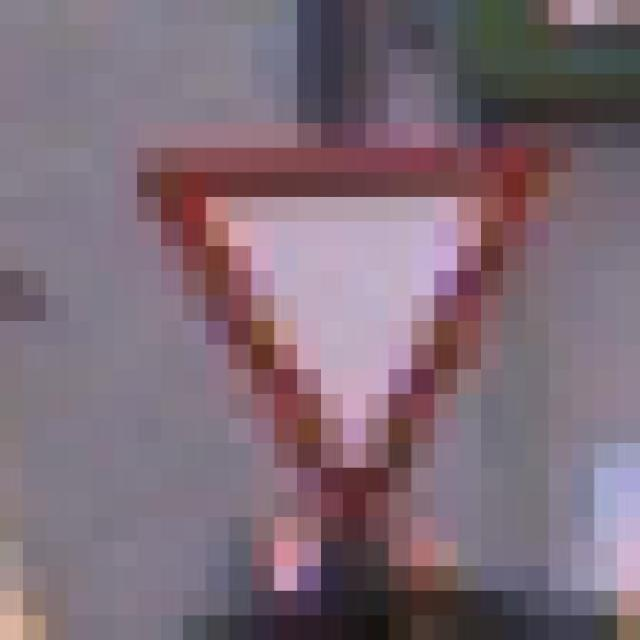Give Way: (137, 98, 594, 591)
